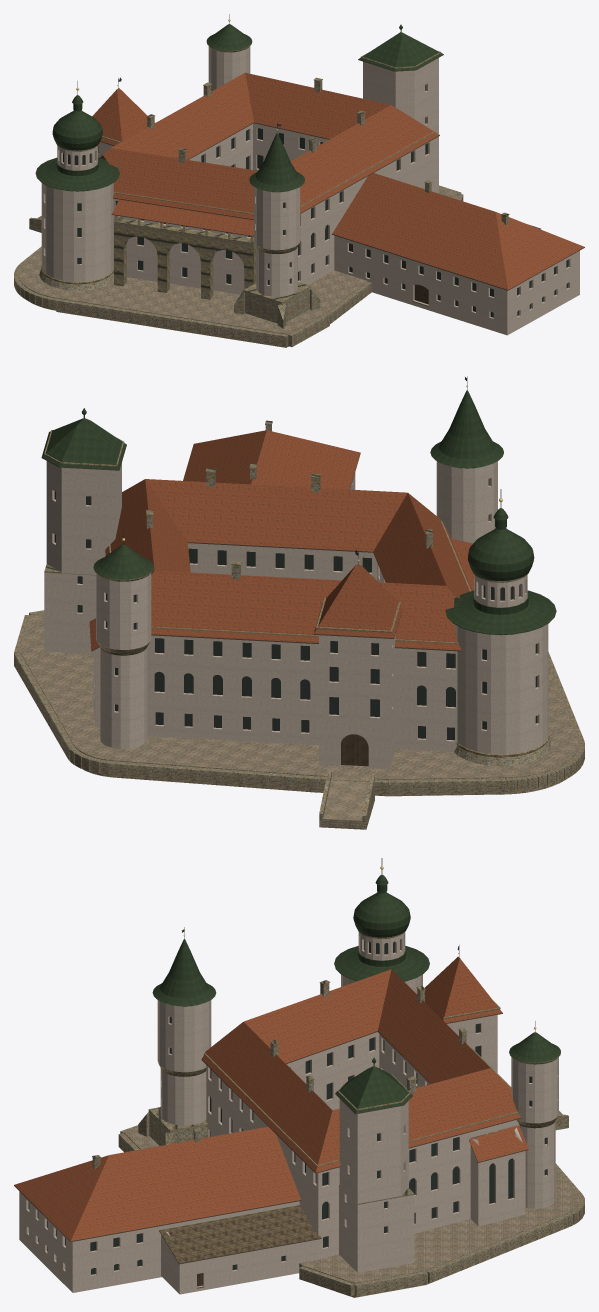
File: zamek_caly_lekki.glb
The picture shows the model from 3 angles, top to bottom: view 1: azimuth 30°, elevation 25°; view 2: azimuth 150°, elevation 25°; view 3: azimuth 270°, elevation 25°; orthographic projection. The views are drawn at different scales.
Visible parts, largest first — view 1: korpus_dach__dachowka, kmitowka_dach__dachowka, kmitowka_mur__tynk, korpus_mur_zew__tynk, taras_nawierzchnia__bruk, bona_mur__tynk, taras_mur__kamien_mur, galeria_arkady__kamien_detal, wE_gora__tynk, korpus_mur_dz__tynk, wS_gora_mur__tynk, galeria_dach__dachowka (+19 smaller); view 2: korpus_dach__dachowka, korpus_mur_zew__tynk, taras_nawierzchnia__bruk, bona_mur__tynk, taras_mur__kamien_mur, ryzalit_mur__tynk, kmitowka_dach__dachowka, wE_gora__tynk, wN_mur__tynk, korpus_mur_dz__tynk, wS_gora_mur__tynk, ryzalit_dach__dachowka (+20 smaller); view 3: korpus_dach__dachowka, kmitowka_dach__dachowka, korpus_mur_zew__tynk, kmitowka_mur__tynk, taras_nawierzchnia__bruk, wE_gora__tynk, przybudowka_dach__gont, wE_dol__tynk, przybudowka_mur__tynk, taras_mur__kamien_mur, korpus_mur_dz__tynk, wS_gora_mur__tynk (+18 smaller).
Boxes of the visible parts, x1=… form: korpus_dach__dachowka: x1=102, y1=72, x2=439, y2=219; kmitowka_dach__dachowka: x1=332, y1=173, x2=584, y2=289; kmitowka_mur__tynk: x1=334, y1=235, x2=579, y2=335; korpus_mur_zew__tynk: x1=113, y1=140, x2=432, y2=294; taras_nawierzchnia__bruk: x1=18, y1=187, x2=458, y2=333; bona_mur__tynk: x1=41, y1=183, x2=113, y2=284; taras_mur__kamien_mur: x1=14, y1=185, x2=463, y2=347; galeria_arkady__kamien_detal: x1=114, y1=227, x2=256, y2=299; wE_gora__tynk: x1=363, y1=58, x2=438, y2=140; korpus_mur_dz__tynk: x1=189, y1=123, x2=328, y2=170; wS_gora_mur__tynk: x1=254, y1=187, x2=300, y2=249; galeria_dach__dachowka: x1=112, y1=199, x2=253, y2=235; korpus_dach__dachowka: x1=105, y1=479, x2=472, y2=650; korpus_mur_zew__tynk: x1=147, y1=596, x2=457, y2=752; taras_nawierzchnia__bruk: x1=20, y1=612, x2=578, y2=779; bona_mur__tynk: x1=454, y1=624, x2=548, y2=757; taras_mur__kamien_mur: x1=14, y1=610, x2=584, y2=793; ryzalit_mur__tynk: x1=319, y1=633, x2=395, y2=768; kmitowka_dach__dachowka: x1=183, y1=430, x2=360, y2=489; wE_gora__tynk: x1=46, y1=461, x2=121, y2=574; wN_mur__tynk: x1=100, y1=647, x2=147, y2=748; korpus_mur_dz__tynk: x1=188, y1=543, x2=385, y2=582; wS_gora_mur__tynk: x1=436, y1=461, x2=497, y2=543; ryzalit_dach__dachowka: x1=313, y1=564, x2=402, y2=637; korpus_dach__dachowka: x1=202, y1=969, x2=520, y2=1172; kmitowka_dach__dachowka: x1=14, y1=1126, x2=300, y2=1241; korpus_mur_zew__tynk: x1=206, y1=1065, x2=519, y2=1259; kmitowka_mur__tynk: x1=19, y1=1191, x2=299, y2=1292; taras_nawierzchnia__bruk: x1=124, y1=1127, x2=579, y2=1282; wE_gora__tynk: x1=339, y1=1099, x2=408, y2=1204; przybudowka_dach__gont: x1=159, y1=1205, x2=321, y2=1263; wE_dol__tynk: x1=339, y1=1186, x2=414, y2=1272; przybudowka_mur__tynk: x1=161, y1=1231, x2=318, y2=1294; taras_mur__kamien_mur: x1=118, y1=1125, x2=584, y2=1296; korpus_mur_dz__tynk: x1=286, y1=1032, x2=429, y2=1110; wS_gora_mur__tynk: x1=157, y1=1000, x2=211, y2=1072.
Size of the model in its own units: 82.35 by 38.51 by 83.43.
15 materials, 12 textured.
